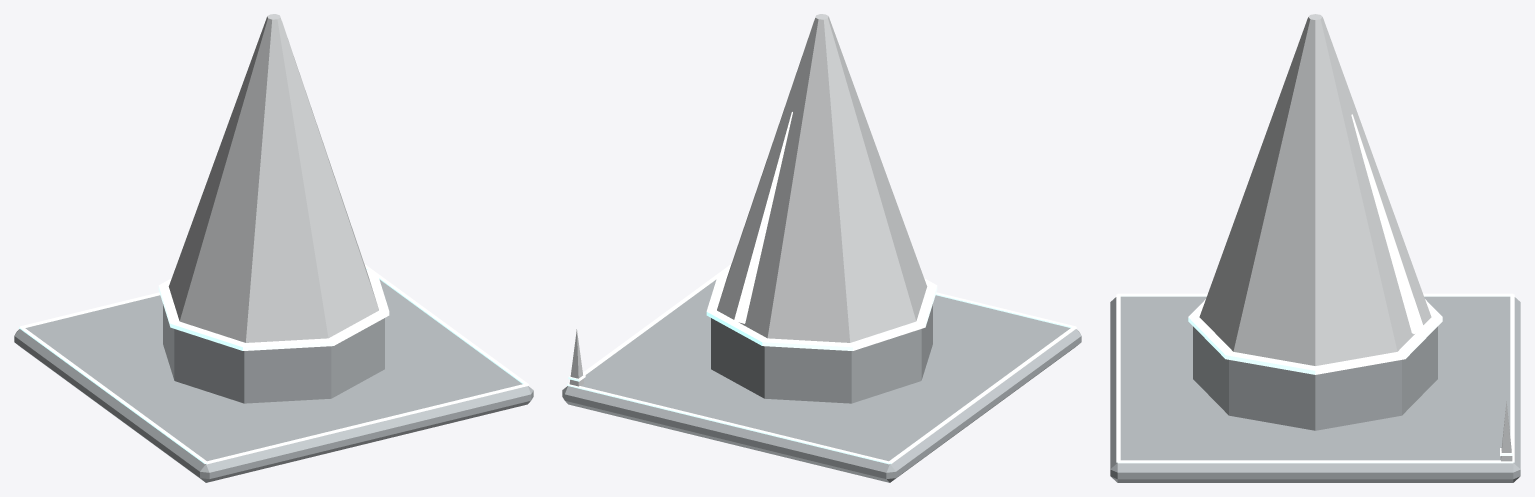
Rendered from zone_high_1_t1.glb.
3 views of the same model, side by side, from view 1: azimuth 30°, elevation 25°; view 2: azimuth 150°, elevation 25°; view 3: azimuth 270°, elevation 25° (orthographic). The views are drawn at different scales.
Parts seen in each view (by area): view 1: zone_high_1_t1, detail; view 2: zone_high_1_t1, detail; view 3: zone_high_1_t1, detail.
Boxes of the visible parts, <box> form: zone_high_1_t1: <box>14,14,533,482</box>; detail: <box>19,264,528,464</box>; zone_high_1_t1: <box>562,14,1081,482</box>; detail: <box>567,264,1076,464</box>; zone_high_1_t1: <box>1110,14,1520,482</box>; detail: <box>1116,293,1514,463</box>.
Bounding box in the file's own units: 27.5 × 28.26 × 27.5.
